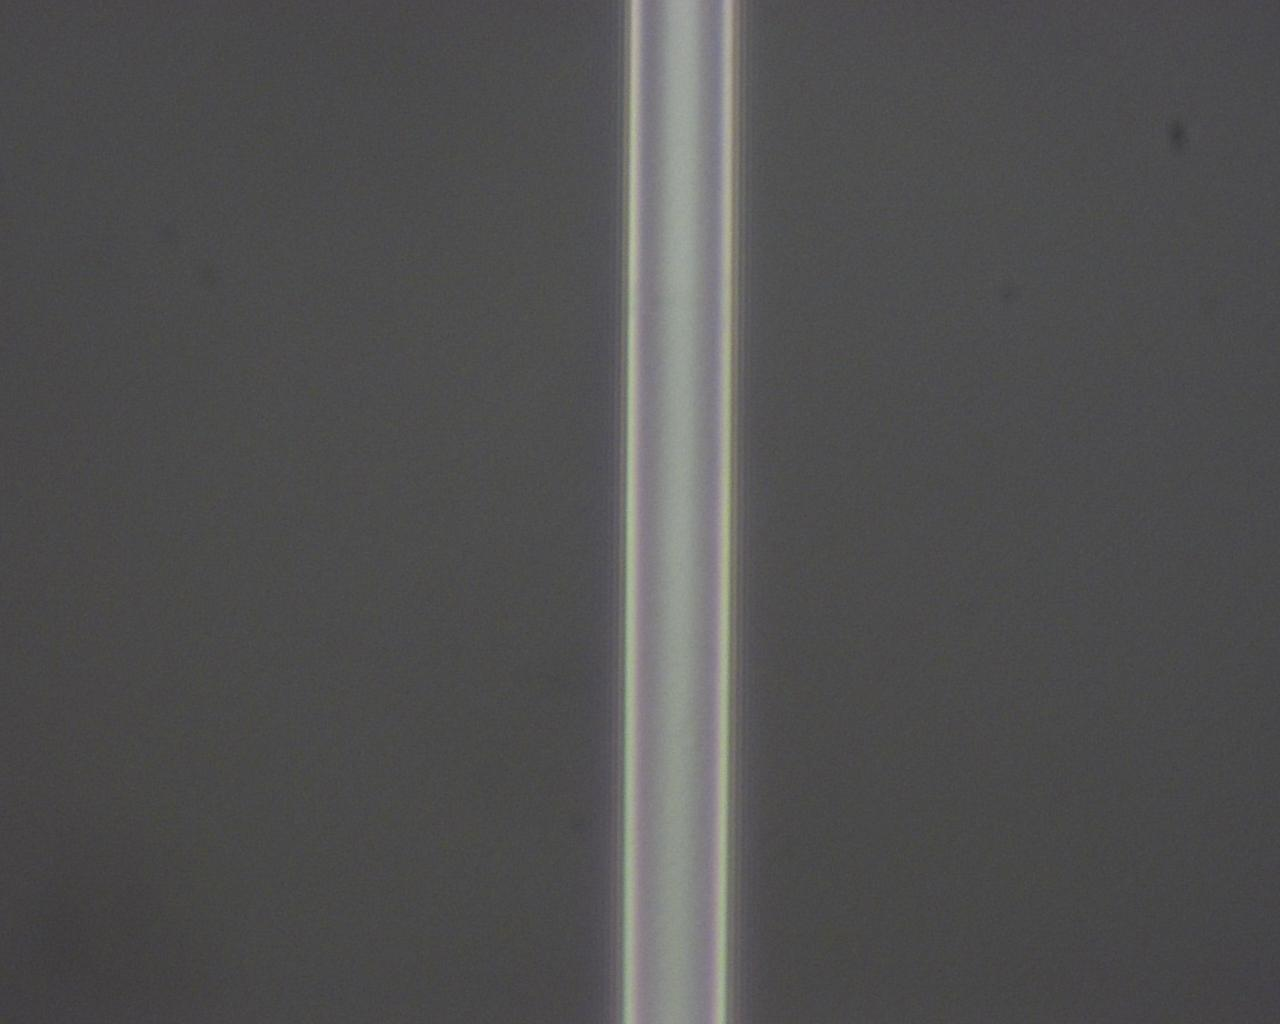fiber: (623, 0, 737, 1024)
